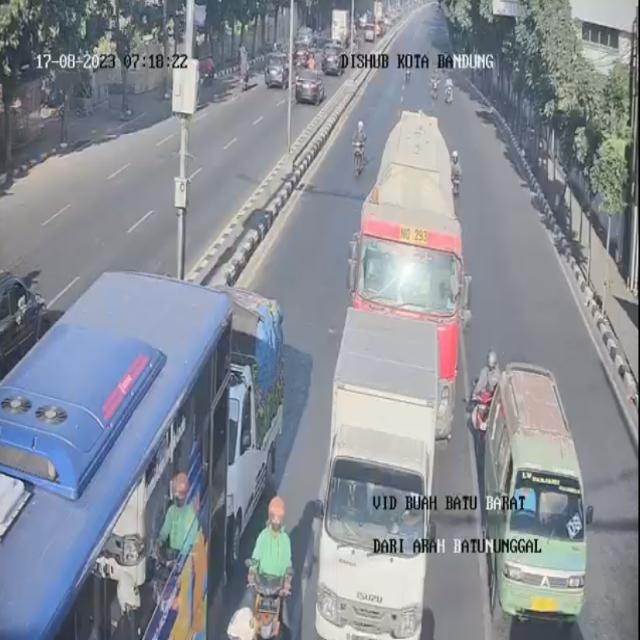bus: (0, 269, 228, 640)
cars: (322, 289, 448, 640), (476, 368, 589, 640), (204, 293, 279, 554)
motorcycle: (247, 495, 295, 640), (466, 343, 501, 459), (448, 144, 470, 208), (352, 114, 372, 176), (431, 64, 445, 102), (401, 59, 415, 92), (444, 74, 457, 108)
truck: (341, 103, 474, 634)
